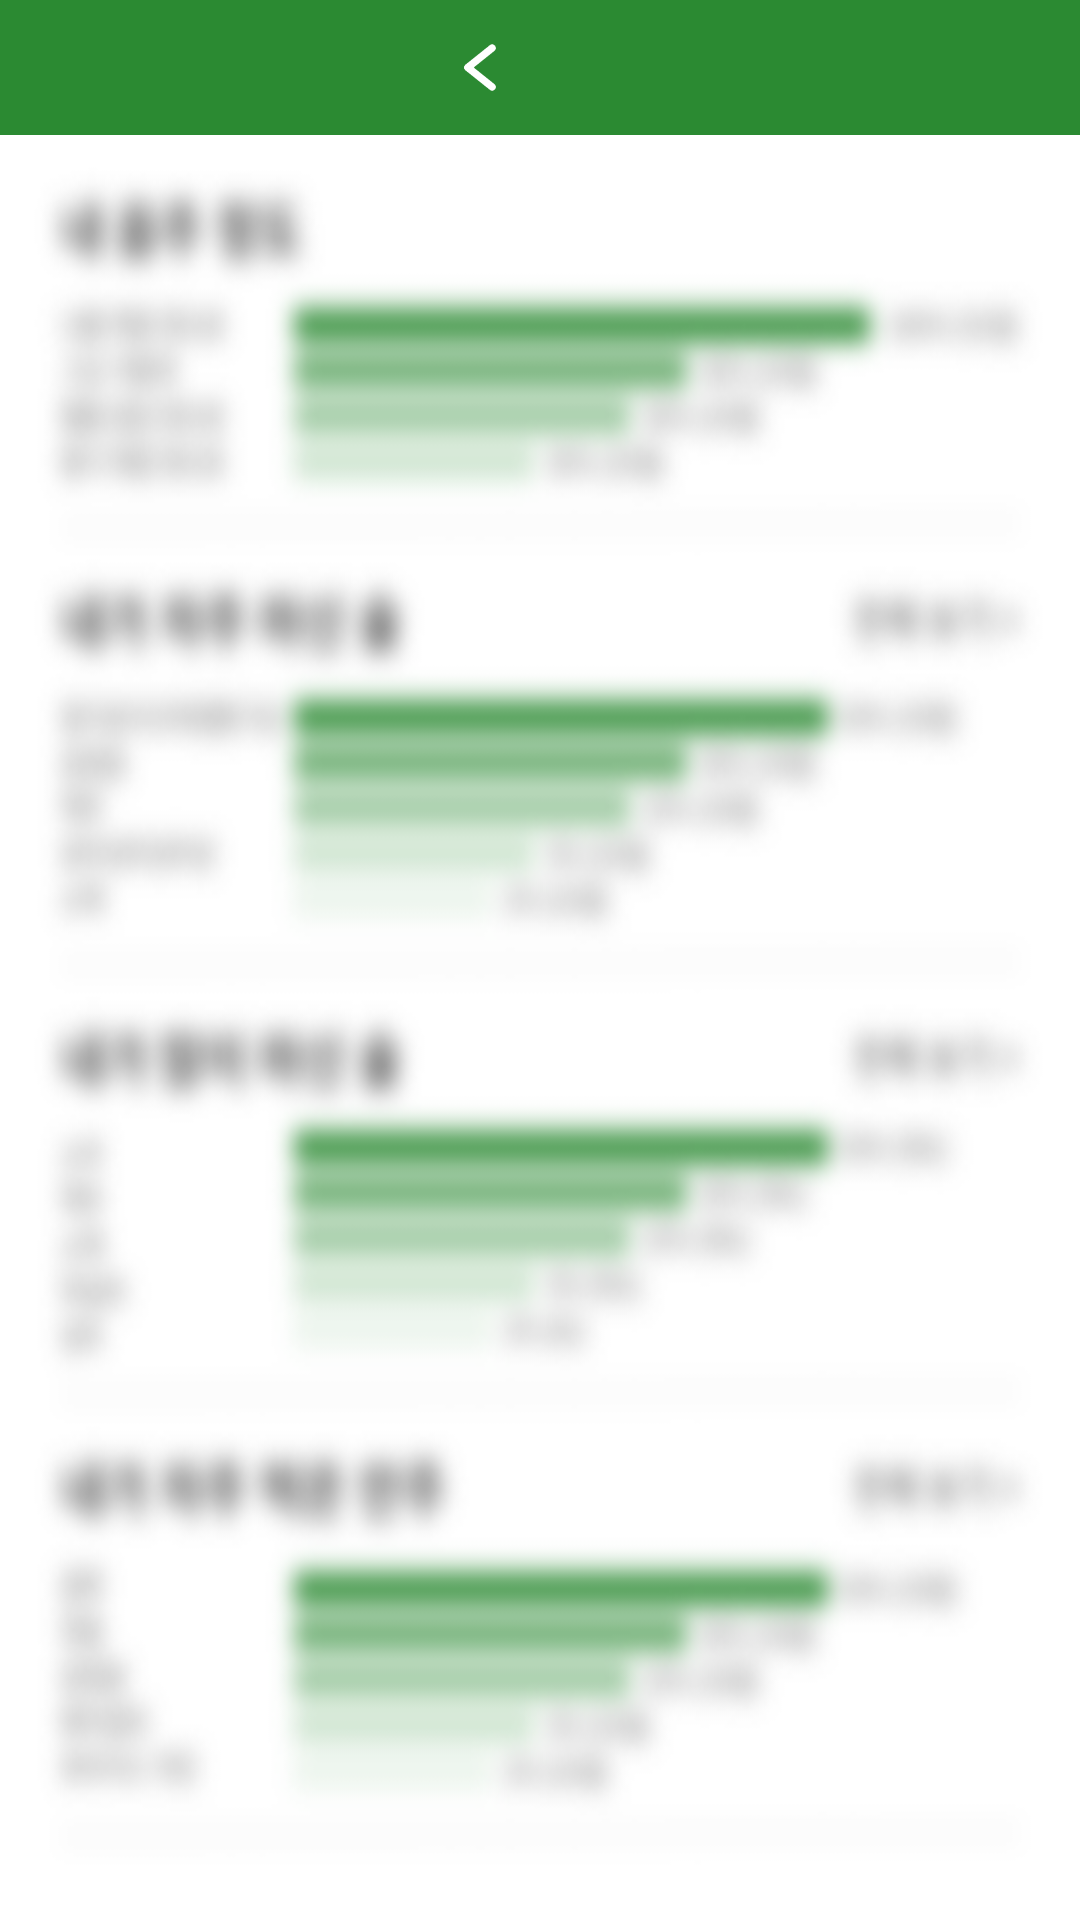

Where icons sit on this 1080×1920 app screen, as [left=x1, top=y1, right=x2, bottom=y2]:
arrow left: [left=464, top=44, right=496, bottom=91]
